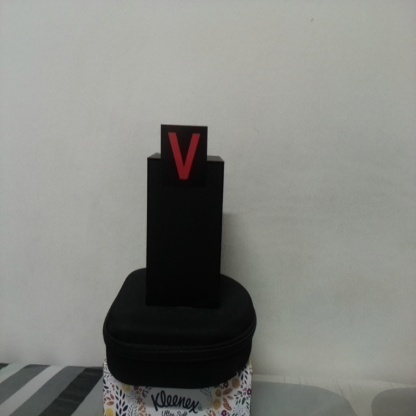id_11: (161, 126, 207, 190)
